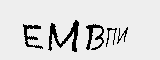В: (84, 21, 104, 54)
Е: (22, 22, 44, 51)
И: (115, 25, 130, 46)
М: (47, 19, 79, 55)
П: (104, 26, 117, 50)
